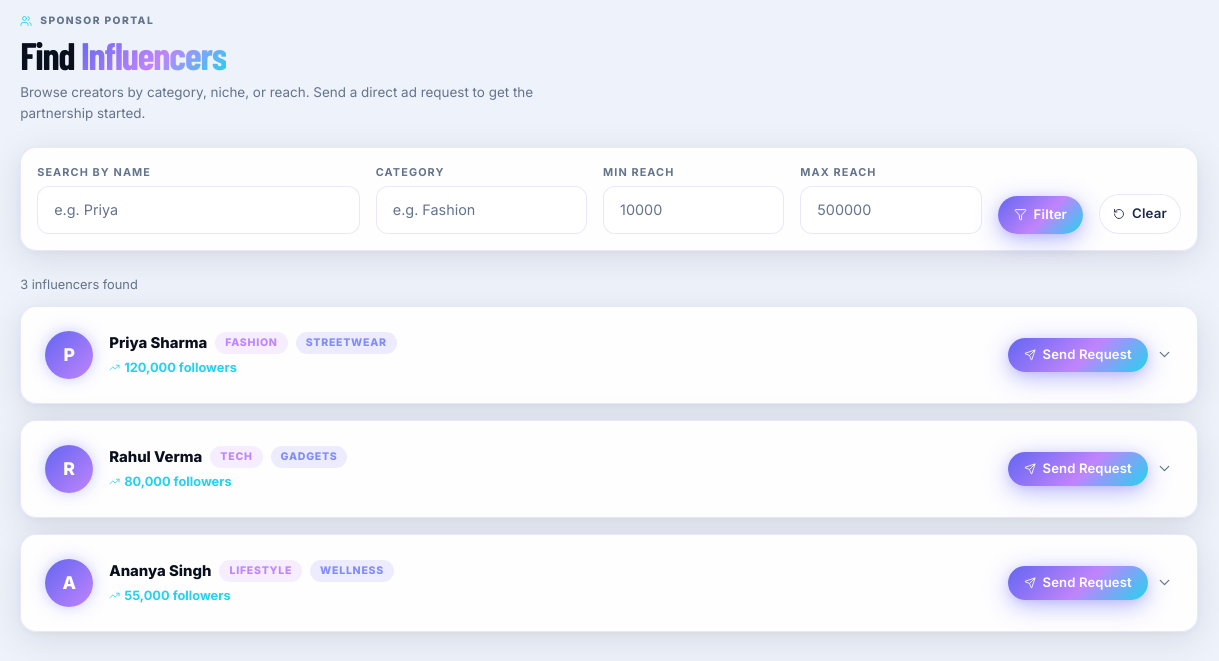
Test: InfluencerDirectory › clears all filters when Clear clicked
Expected: the text "Priya Sharma" is shown, [109,332,207,354]
Type "Tech" into the field with placeholder "e.g. Fashion".
click(481, 210); type("Tech")  # box [376,186,587,234]
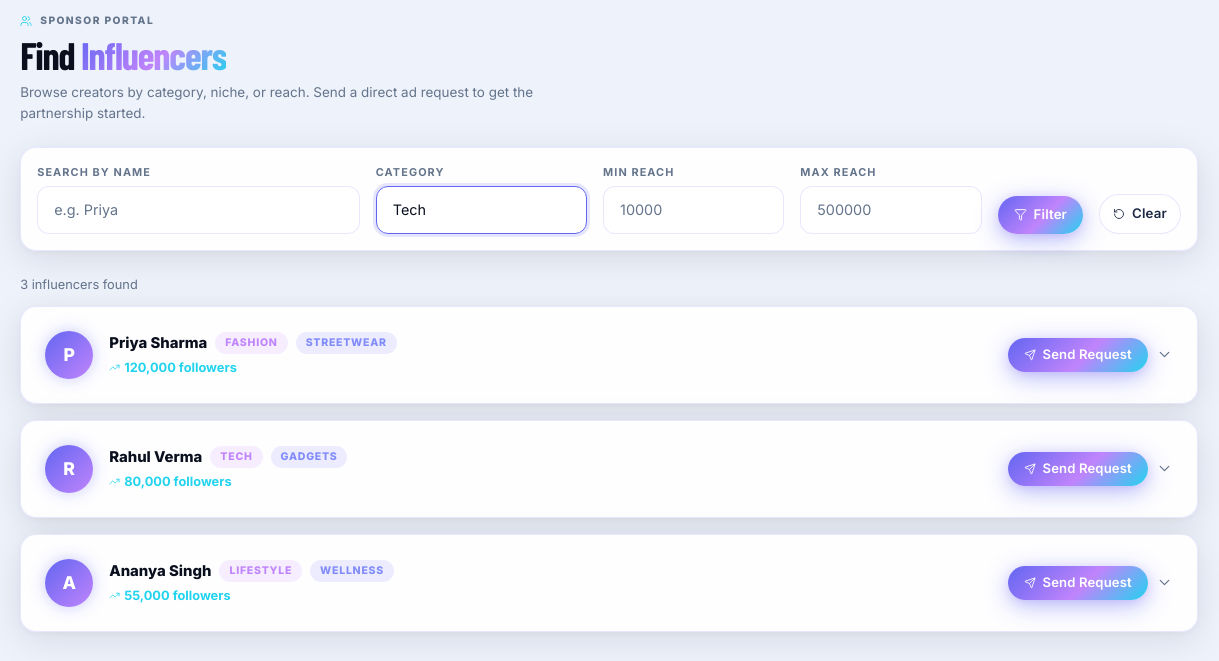
Click the button "Clear".
click(1140, 214)  # box [1099,194,1181,234]
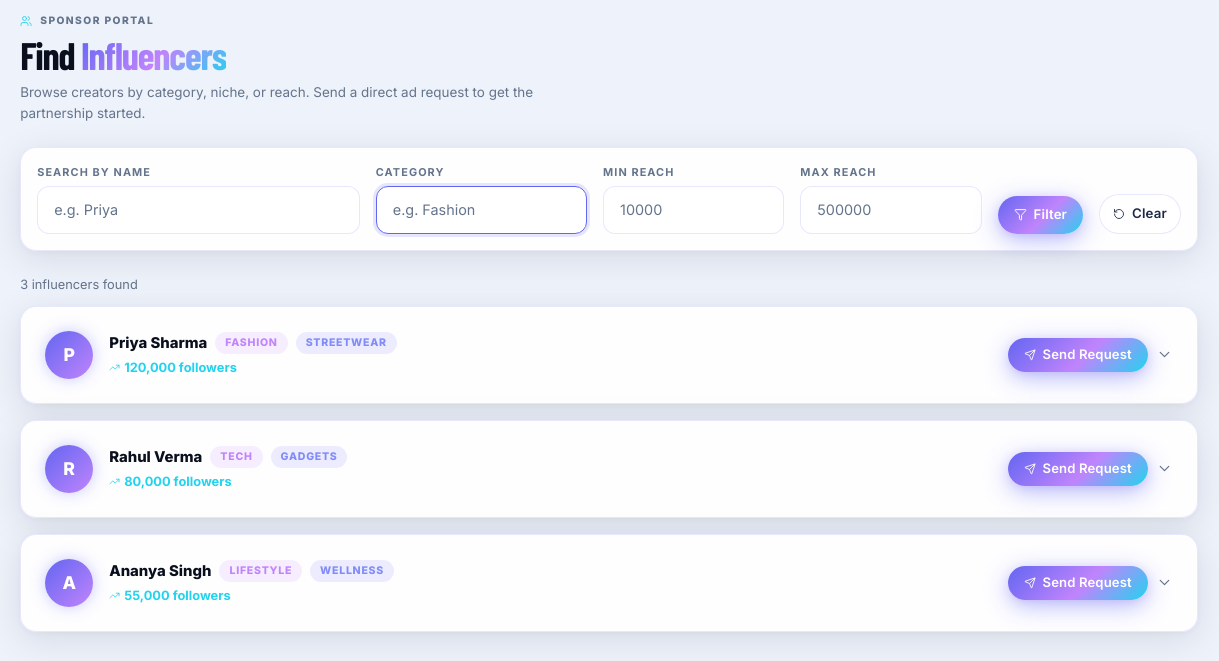
Result: the field with placeholder "e.g. Fashion" is empty at [376,186,587,234]
